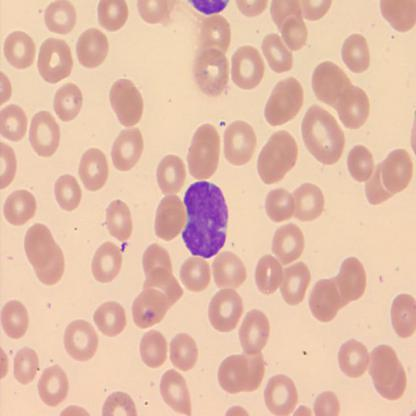Blast: (180, 178, 230, 260)
